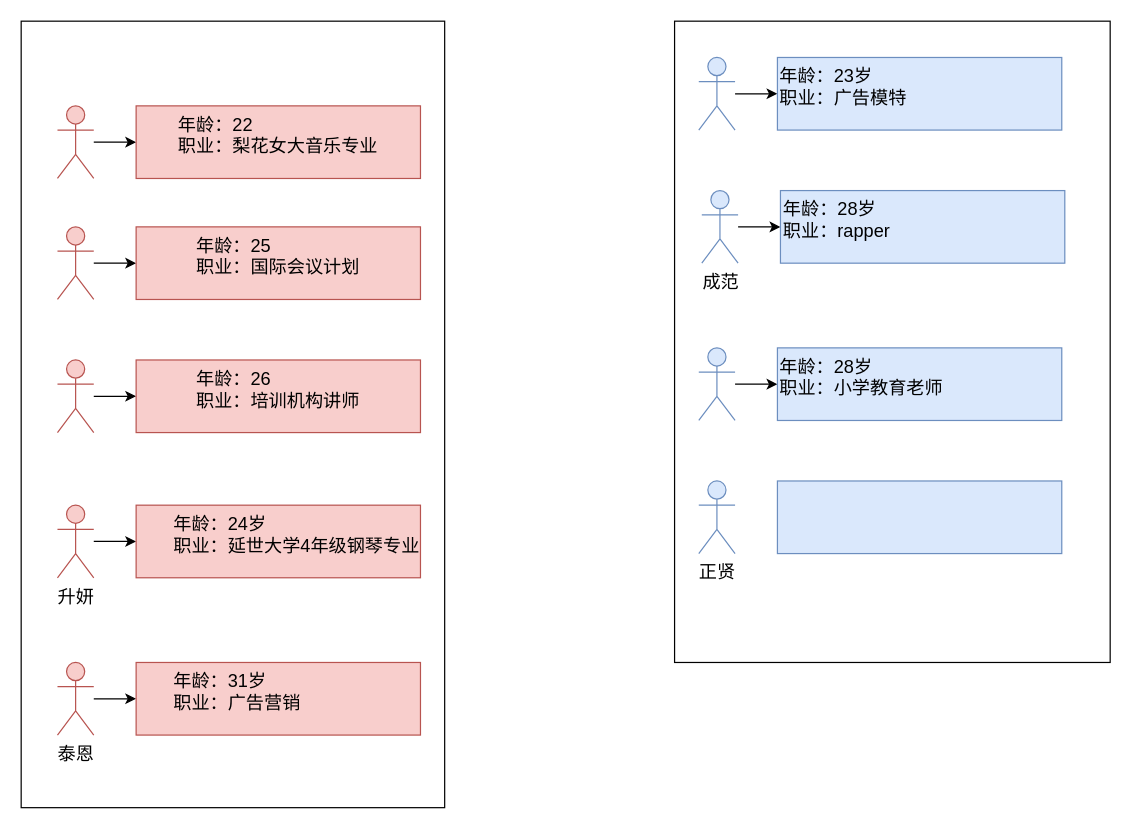
The diagram is 1131 pixels wide and 829 high, and some of its shapes have lost their labels. The shapes that lost their labels are listed below. From the top down, each one's centre as x and y in pixels, then its label:
(x=716, y=93): 秀路
(x=75, y=141): 秀智
(x=75, y=262): 孝珍
(x=75, y=396): 又情
(x=716, y=383): 勇浩
(x=919, y=517): 年龄：29岁 职业：厨师，经营红酒屋
